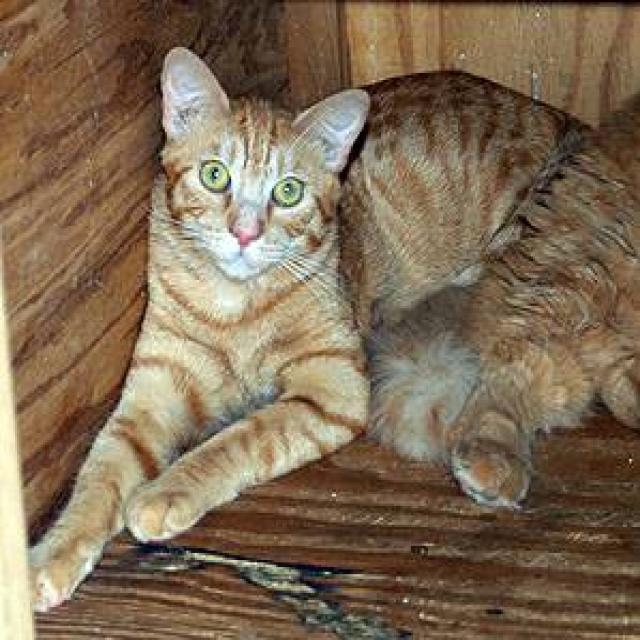cat: (25, 42, 372, 612), (362, 68, 638, 511)
